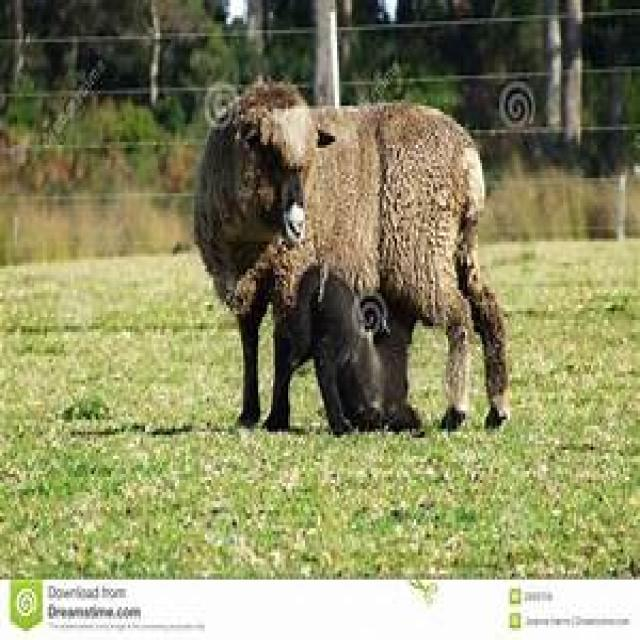cow: (192, 76, 510, 434)
